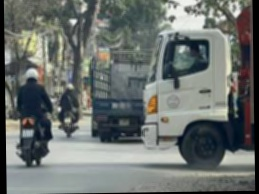Bien-so: (26, 132, 37, 141), (68, 121, 76, 127)
